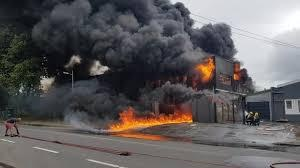fire: (106, 107, 194, 134), (196, 56, 216, 80), (231, 64, 240, 81)
